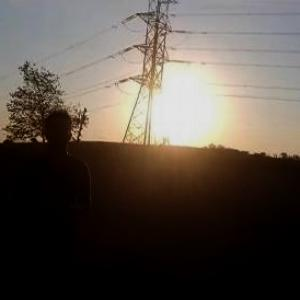follow: (7, 101, 94, 299)
